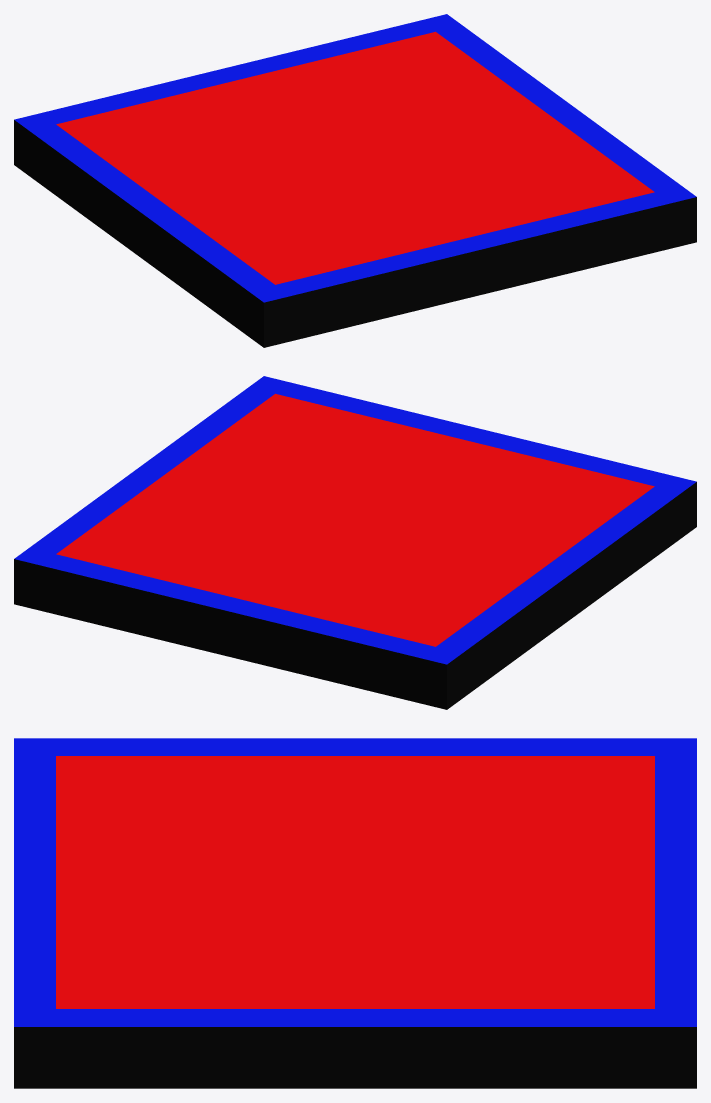
File: Sqaure_Floating_Platform.fbx
The picture shows the model from 3 angles, top to bottom: view 1: azimuth 30°, elevation 25°; view 2: azimuth 150°, elevation 25°; view 3: azimuth 270°, elevation 25°; orthographic projection. The views are drawn at different scales.
Parts seen in each view (by area): view 1: Square_Floating_Platform; view 2: Square_Floating_Platform; view 3: Square_Floating_Platform.
Part boxes in pixels (x1=…): Square_Floating_Platform: x1=14, y1=14, x2=696, y2=347; Square_Floating_Platform: x1=14, y1=376, x2=696, y2=709; Square_Floating_Platform: x1=14, y1=738, x2=696, y2=1088.
Size of the model in its own units: 5 by 0.5 by 5.
Materials: 1 (1 with a texture image).
